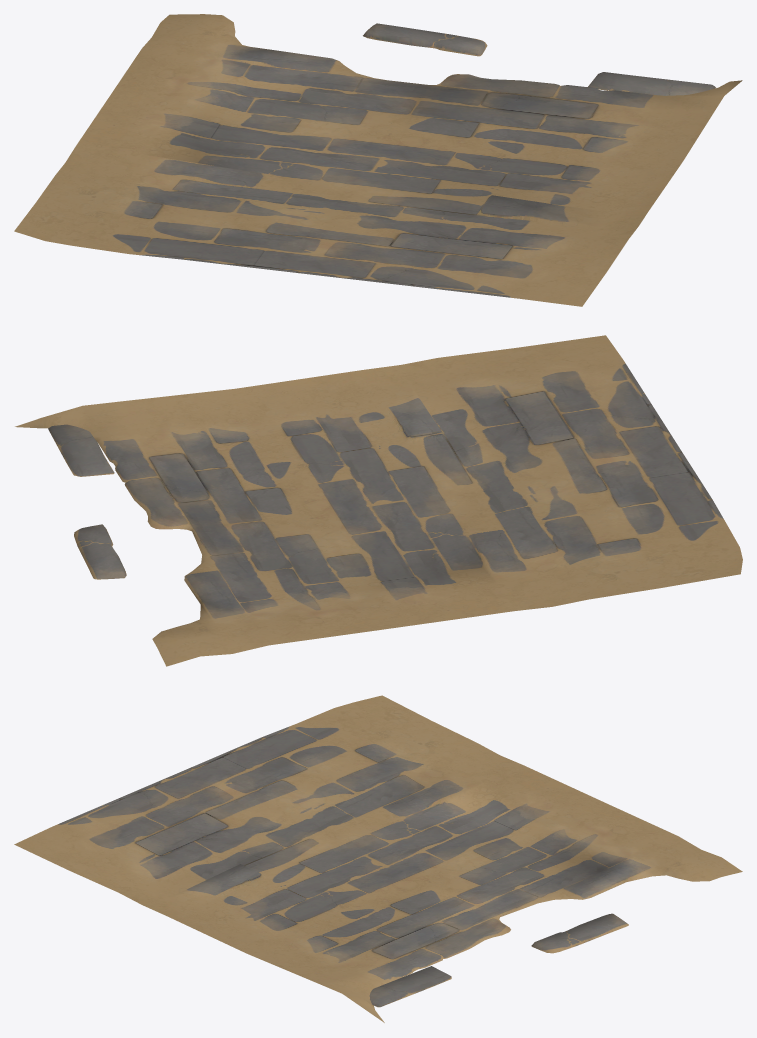
Rendered from SM_ENV_LKNVLD_Ground_Left_RoadToGate_01.FBX.
3 views of the same model, one above another, from view 1: azimuth 30°, elevation 25°; view 2: azimuth 150°, elevation 25°; view 3: azimuth 270°, elevation 25° (orthographic). The views are drawn at different scales.
Visible parts, largest first — view 1: SM_ENV_LKNVLD_Ground_Left_RoadToGate_01; view 2: SM_ENV_LKNVLD_Ground_Left_RoadToGate_01; view 3: SM_ENV_LKNVLD_Ground_Left_RoadToGate_01.
Part boxes in pixels (box(x1,y1,x2,y2)): SM_ENV_LKNVLD_Ground_Left_RoadToGate_01: box(14, 14, 742, 306); SM_ENV_LKNVLD_Ground_Left_RoadToGate_01: box(15, 335, 742, 666); SM_ENV_LKNVLD_Ground_Left_RoadToGate_01: box(14, 695, 742, 1022).
Bounding box in the file's own units: 1083 × 40.43 × 1098.
